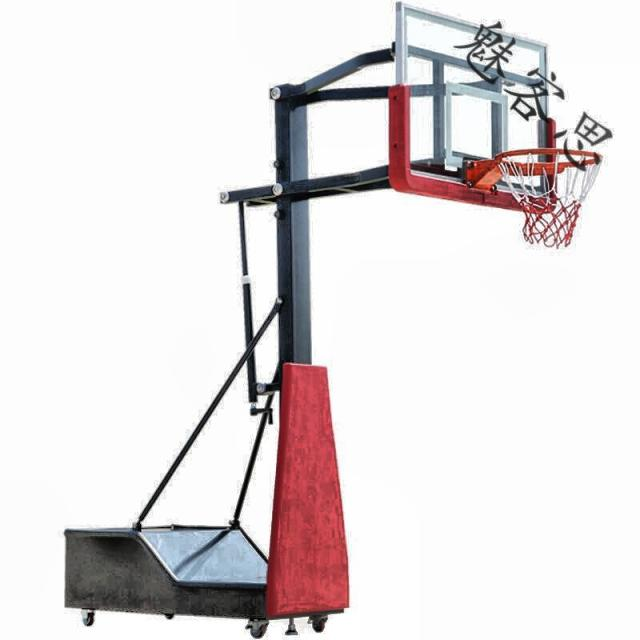rim: (494, 150, 603, 246)
